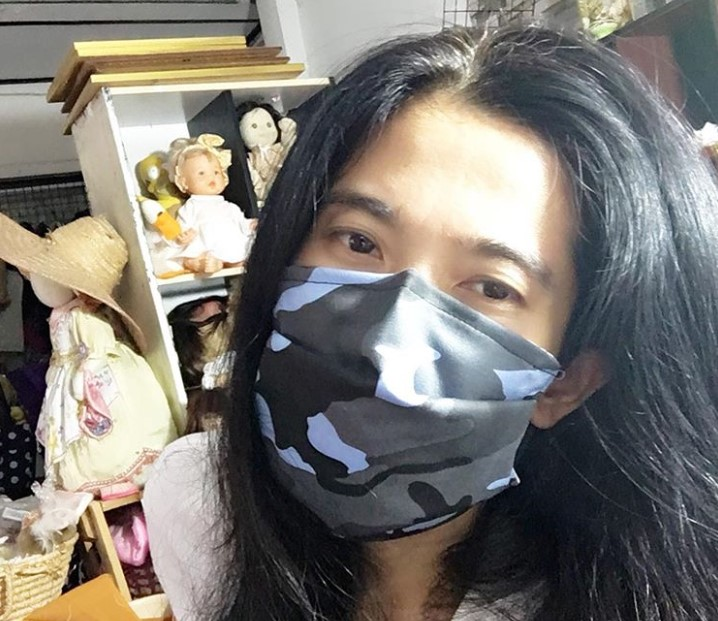face_with_mask: (239, 28, 624, 551)
